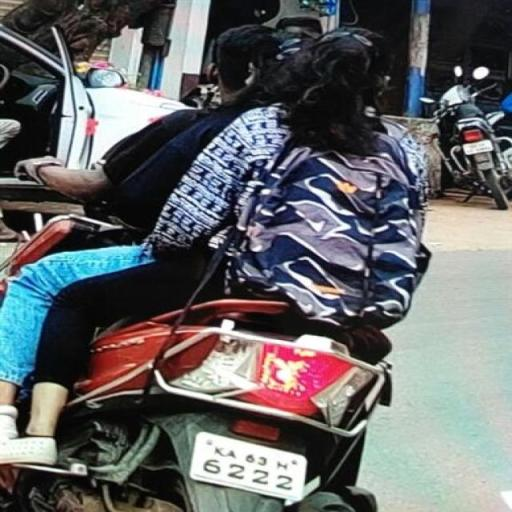tripple riding: (6, 17, 482, 339)
